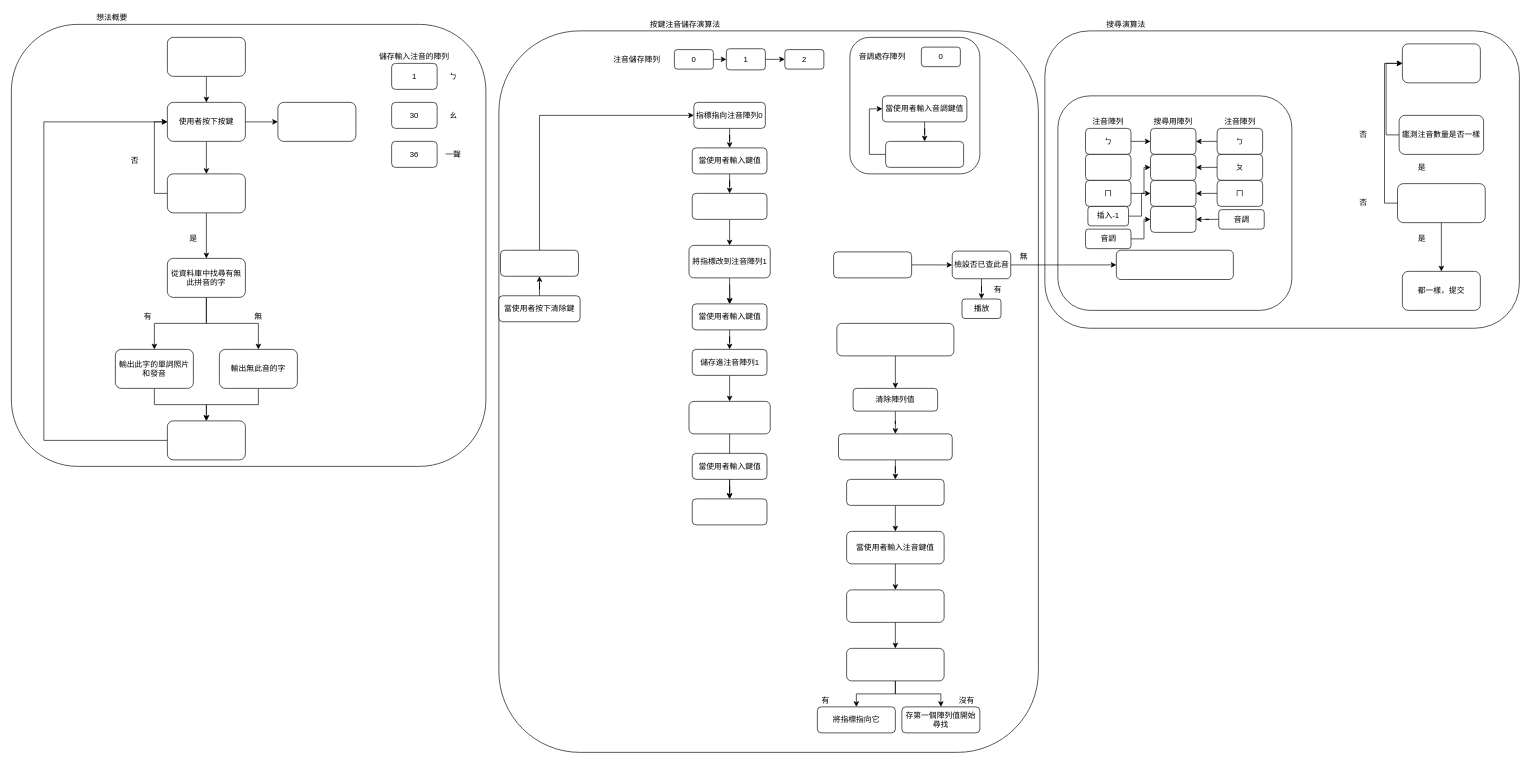
This 1531x764 diagram has some shape labels left out. Here are the shapes that lost their labels. From the top down, the centre of each, then its label:
At (206,56): "程式開始".
At (1441,63): "進入搜尋循環".
At (316,121): "將按下去的按鍵的值儲存到陣列中".
At (924,154): "儲存進音調陣列0中".
At (206,193): "檢測按下的鍵是否是檢測鍵".
At (729,206): "儲存進注音陣列0".
At (1441,203): "鑑測每個注音是否一樣".
At (539,263): "清除注音和音調陣列".
At (872,264): "當使用者按下發音鍵".
At (1174,265): "檢測注音陣列有幾個注音，將注音和音調存入陣列中".
At (895,339): "當使用者點選任一注音陣列時".
At (729,417): "將指標改到注音陣列2".
At (206,440): "清空儲存陣列".
At (895,446): "當使用者再次點選該陣列時".
At (729,511): "儲存進注音陣列2".
At (895,492): "將輸入指標指向該陣列值".
At (895,605): "儲存進此注音陣列值中".
At (895,664): "搜尋它下面最近的空注音陣列".
